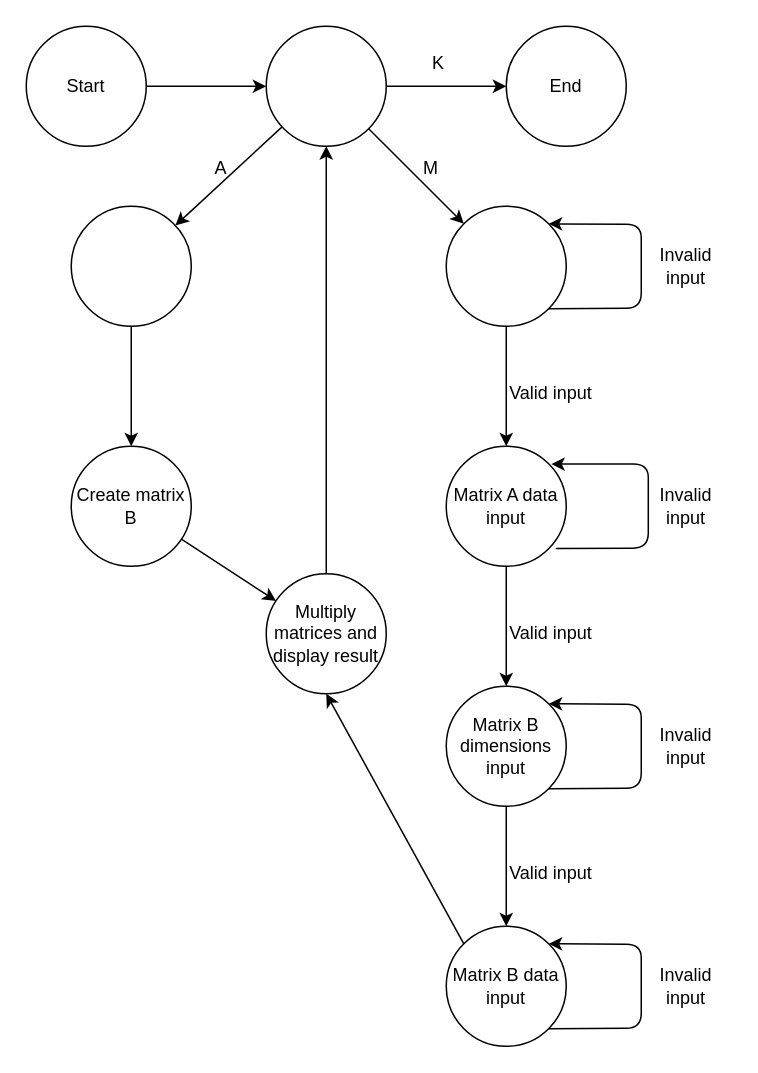
The diagram is 758 pixels wide and 1073 high, and some of its shapes have lost their labels. The centre of each missing label's shape, as x and y in pixels:
"Create matrix A" belongs at pixel 130 265.
"Matrix A dimensions input" belongs at pixel 505 265.
"Mode" belongs at pixel 325 85.
